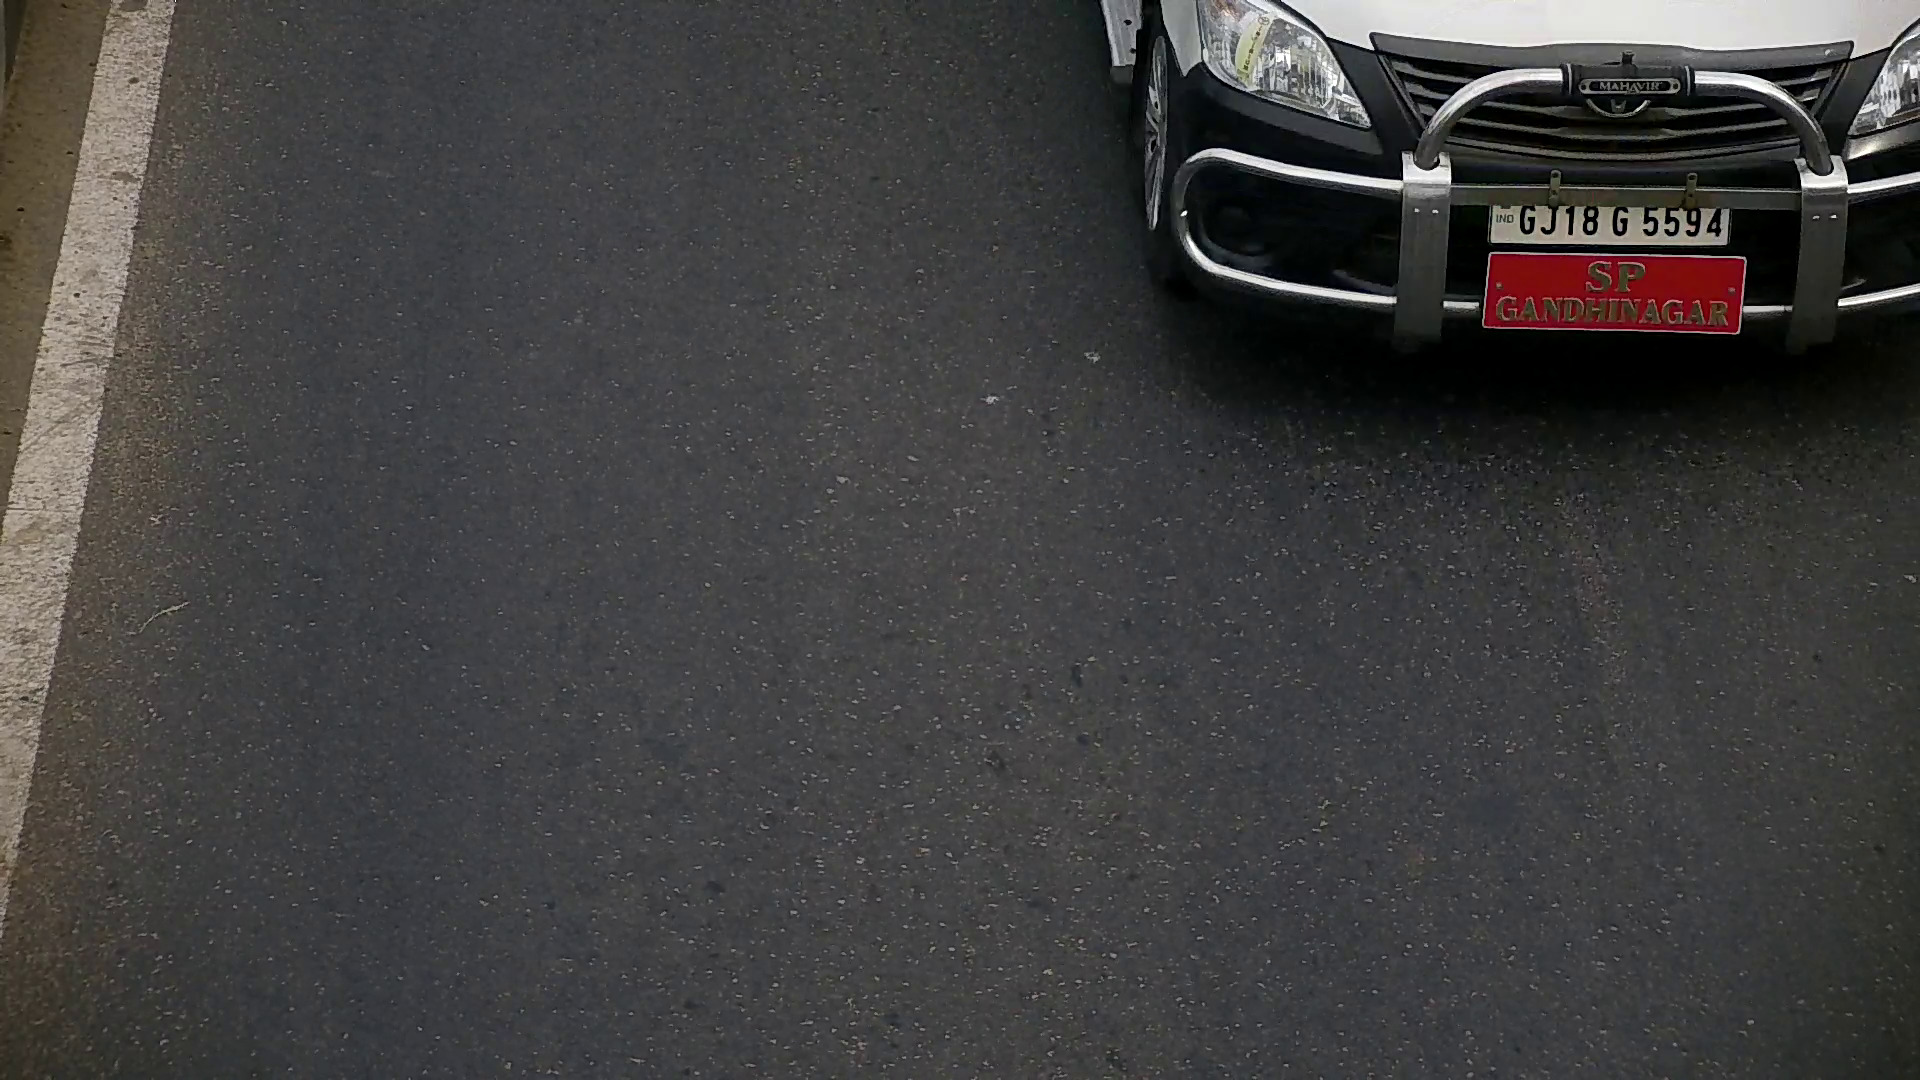numberplate: (1489, 202, 1738, 248)
